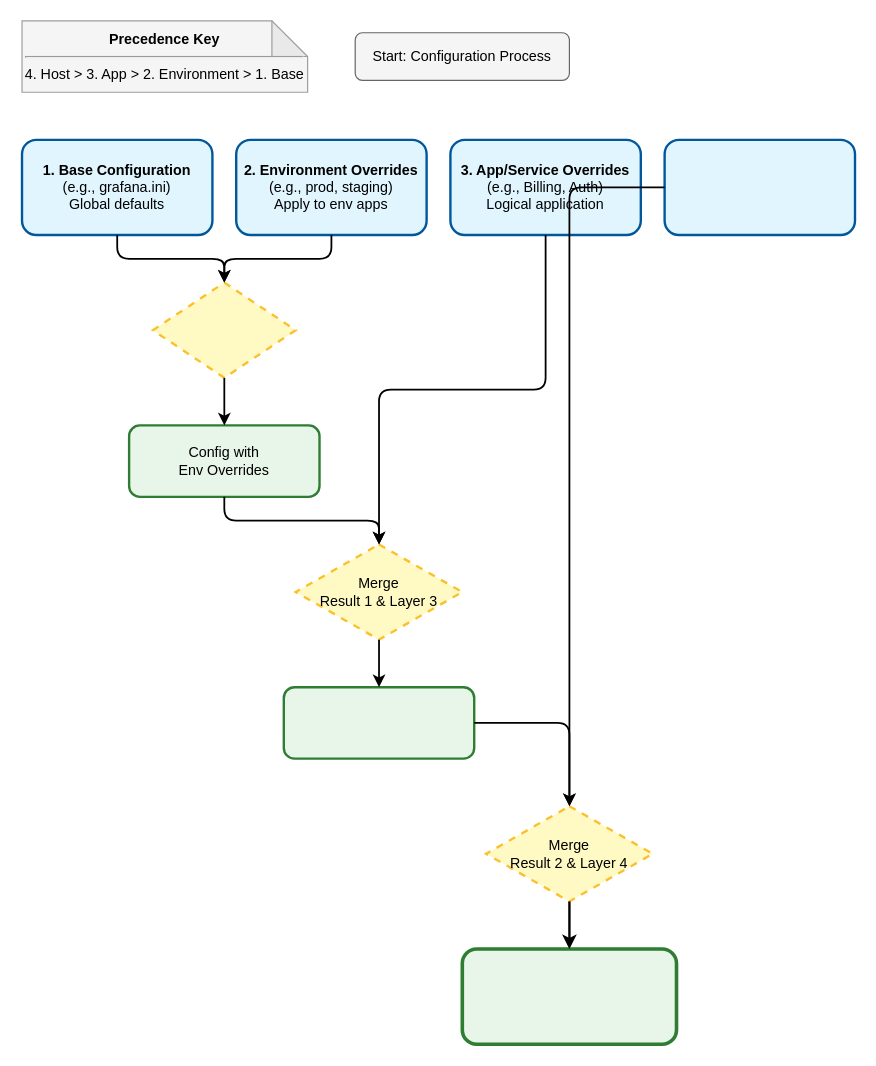
The diagram is 876 pixels wide and 1066 high, and some of its shapes have lost their labels. Each missing label, with the centre of its shape:
"4. Host Specific Overrides (e.g., specific VM) Final, specific settings" belongs at pixel 759 187.
"Config with App Overrides" belongs at pixel 378 722.
"Final Runtime Configuration applied to Grafana Instance" belongs at pixel 569 996.
"Merge Layer 1 & 2" belongs at pixel 223 329.
